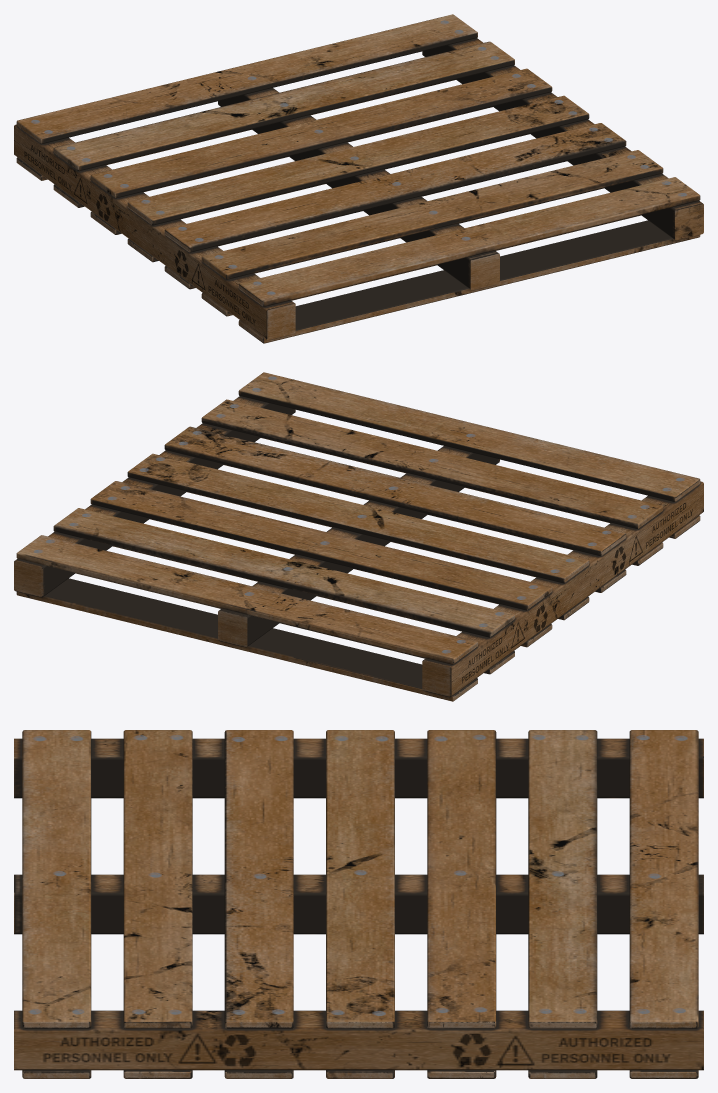
File: pallet.glb
The picture shows the model from 3 angles, top to bottom: view 1: azimuth 30°, elevation 25°; view 2: azimuth 150°, elevation 25°; view 3: azimuth 270°, elevation 25°; orthographic projection. The views are drawn at different scales.
Visible parts, largest first — view 1: Symmetry_1; view 2: Symmetry_1; view 3: Symmetry_1.
Part boxes in pixels (x1,y1,x2,y2): Symmetry_1: (14, 14, 703, 343); Symmetry_1: (14, 372, 703, 701); Symmetry_1: (14, 730, 703, 1078).
Bounding box in the file's own units: 1.82 × 0.1706 × 1.82.
Materials: 1 (1 with a texture image).
